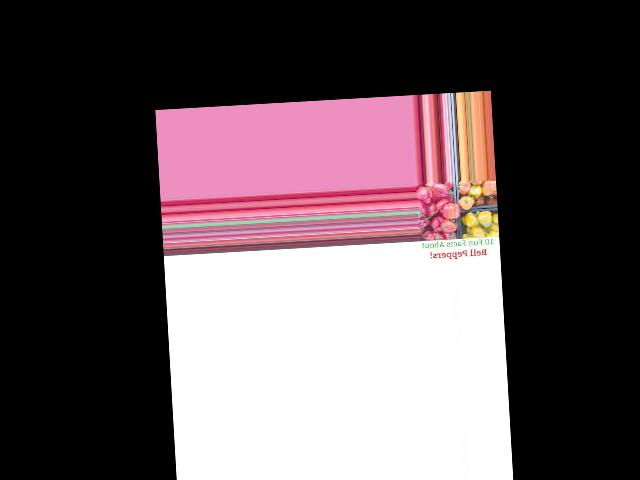bell_pepper: (426, 228, 448, 243)
